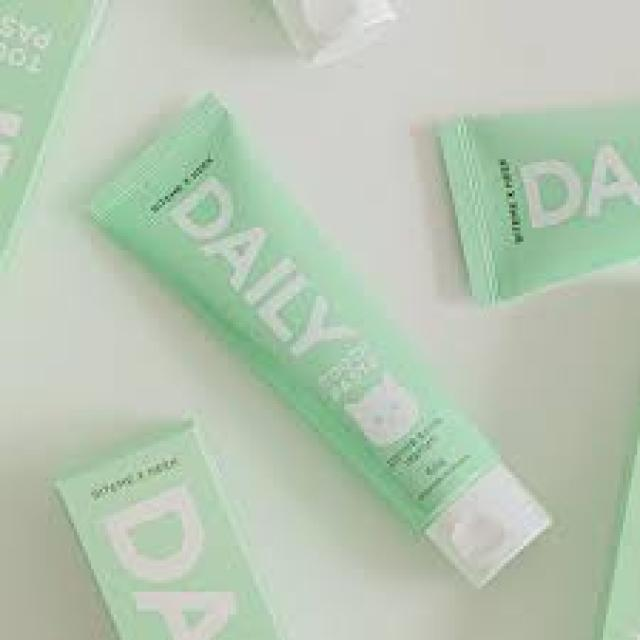toothpaste: (76, 92, 554, 582), (419, 71, 640, 311)
